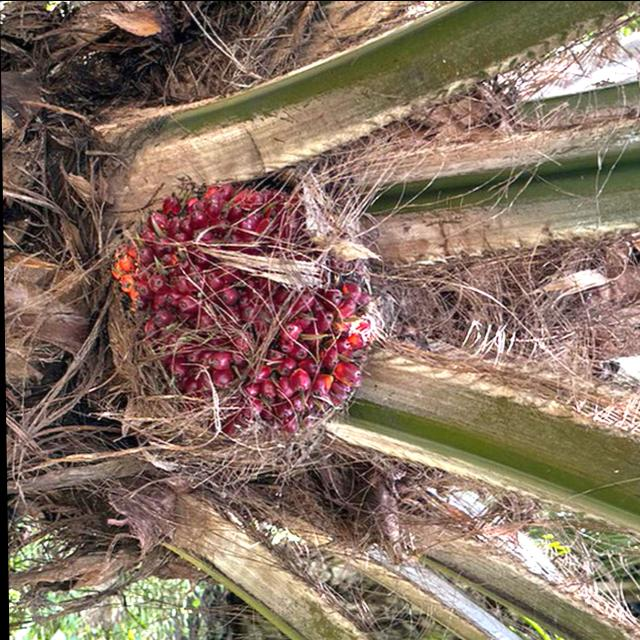ripe: (96, 152, 405, 472)
